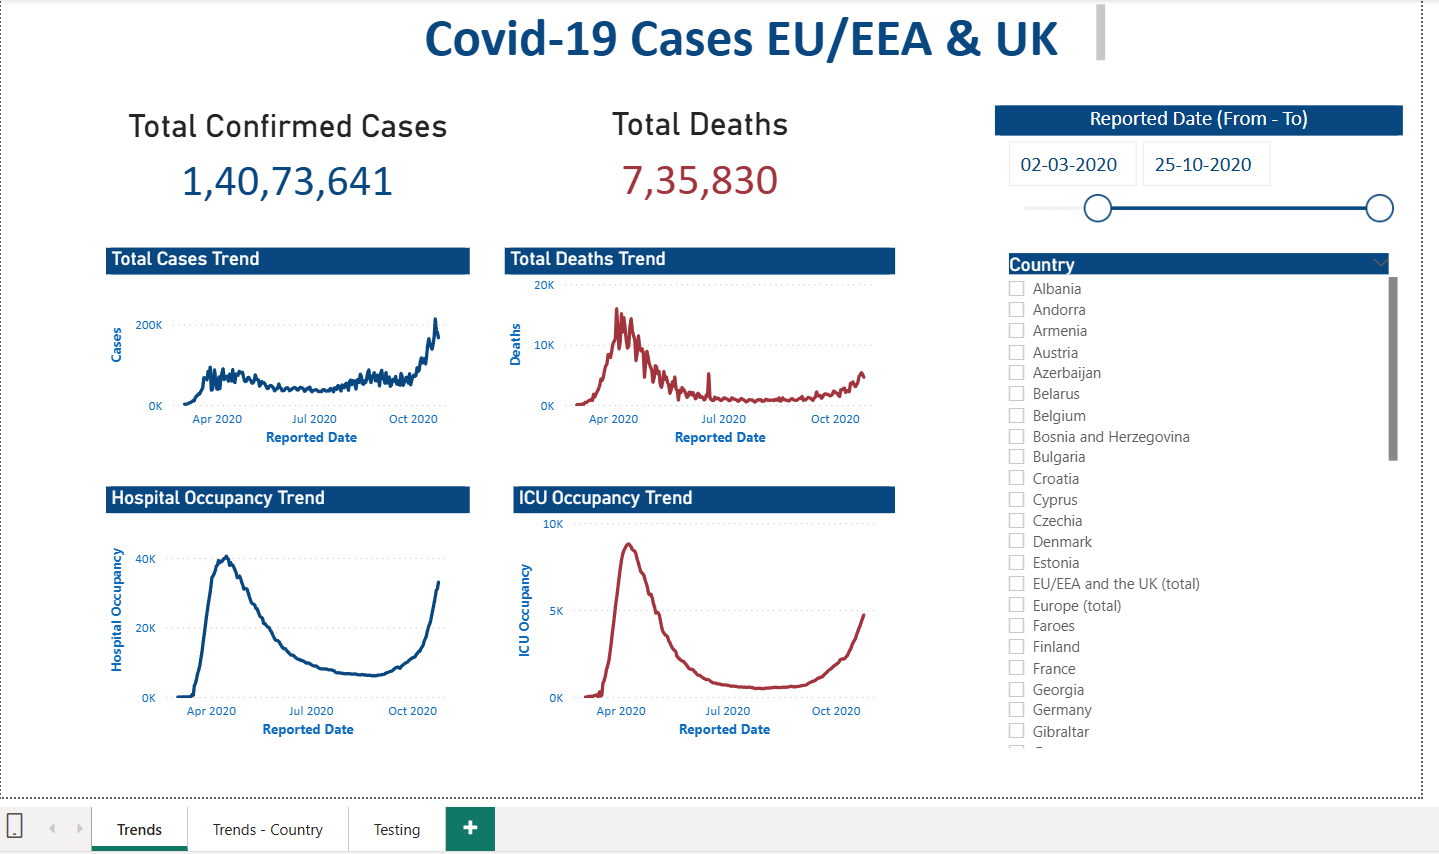

Layout of this report page (visuals, bound fields, positions):
{"tool":"powerbi","page":{"name":"Trends","canvas":[1280,720],"ordinal":0},"visuals":[{"type":"card","title":"Total Confirmed Cases","fields":{"Values":["Sum(covid_reporting cases_and_deaths.cases_count)"]},"box":[94.2,96.6,327.7,95.4],"z":0},{"type":"card","title":"Total Deaths","fields":{"Values":["Sum(covid_reporting cases_and_deaths.deaths_count)"]},"box":[454.4,96,352,96],"z":1000},{"type":"textbox","box":[376,0,624,64],"z":2000},{"type":"lineChart","title":"Total Cases Trend","fields":{"Category":["covid_reporting cases_and_deaths.reported_date"],"Y":["Sum(covid_reporting cases_and_deaths.cases_count)"]},"box":[94.4,224,328,184],"z":3000},{"type":"lineChart","title":"Total Deaths Trend","fields":{"Category":["covid_reporting cases_and_deaths.reported_date"],"Y":["Sum(covid_reporting cases_and_deaths.deaths_count)"]},"box":[454.4,224,352,184],"z":4000},{"type":"slicer","fields":{"Values":["covid_reporting cases_and_deaths.country"]},"box":[896,224,368,456],"z":5000},{"type":"lineChart","title":"Hospital Occupancy Trend","fields":{"Y":["Sum(covid_reporting hospital_admissions_daily.hospital_occupancy_count)"],"Category":["covid_reporting hospital_admissions_daily.reported_date"]},"box":[94.4,440,328,232],"z":6000},{"type":"lineChart","title":"ICU Occupancy Trend","fields":{"Y":["Sum(covid_reporting hospital_admissions_daily.icu_occupancy_count)"],"Category":["covid_reporting hospital_admissions_daily.reported_date"]},"box":[462.4,440,344,232],"z":7000},{"type":"slicer","title":"Reported Date (From - To)","fields":{"Values":["covid_reporting cases_and_deaths.reported_date"]},"box":[896,96,368,112],"z":8001}]}

Visuals, with their boxes on the page's 1280x720 design canvas (x1, y1, x2, y2). These are canvas units, not pixel positions in the 1439x854 screenshot, which may show the page scaled, cropped or inside an application window:
"Total Confirmed Cases" card: bbox(94, 97, 422, 192)
"Total Deaths" card: bbox(454, 96, 806, 192)
textbox: bbox(376, 0, 1000, 64)
"Total Cases Trend" lineChart: bbox(94, 224, 422, 408)
"Total Deaths Trend" lineChart: bbox(454, 224, 806, 408)
slicer - covid_reporting cases_and_deaths.country: bbox(896, 224, 1264, 680)
"Hospital Occupancy Trend" lineChart: bbox(94, 440, 422, 672)
"ICU Occupancy Trend" lineChart: bbox(462, 440, 806, 672)
"Reported Date (From - To)" slicer: bbox(896, 96, 1264, 208)
